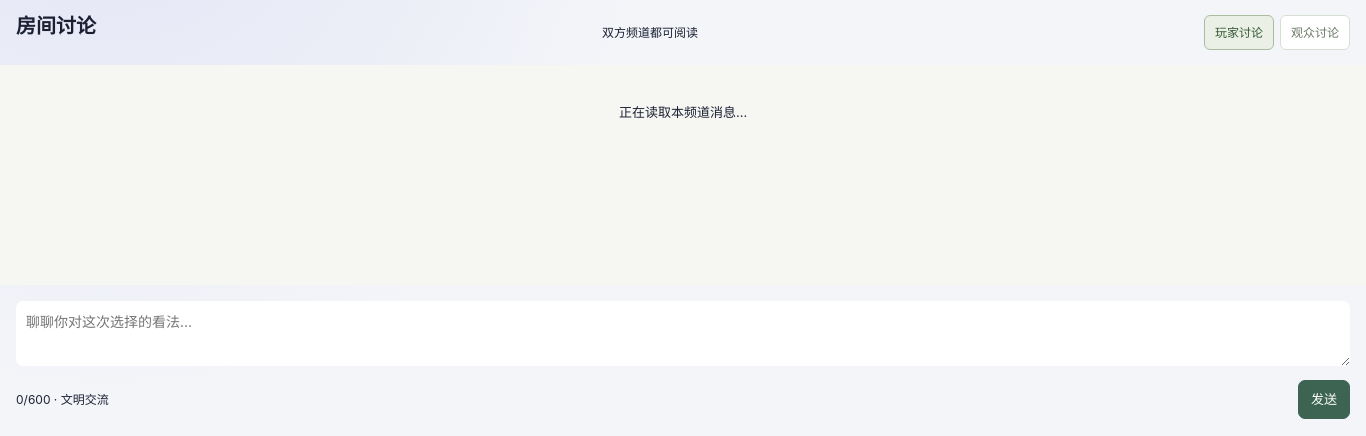
Test: rail workspace › ignores a late channel response and distinguishes loading or failed reads from empty history
Expected: the text "正在读取本频道消息…" is shown, [619,104,747,120]
Step 1. Click the tab "观众讨论" → x=1315, y=32, box [1280,15,1350,50]
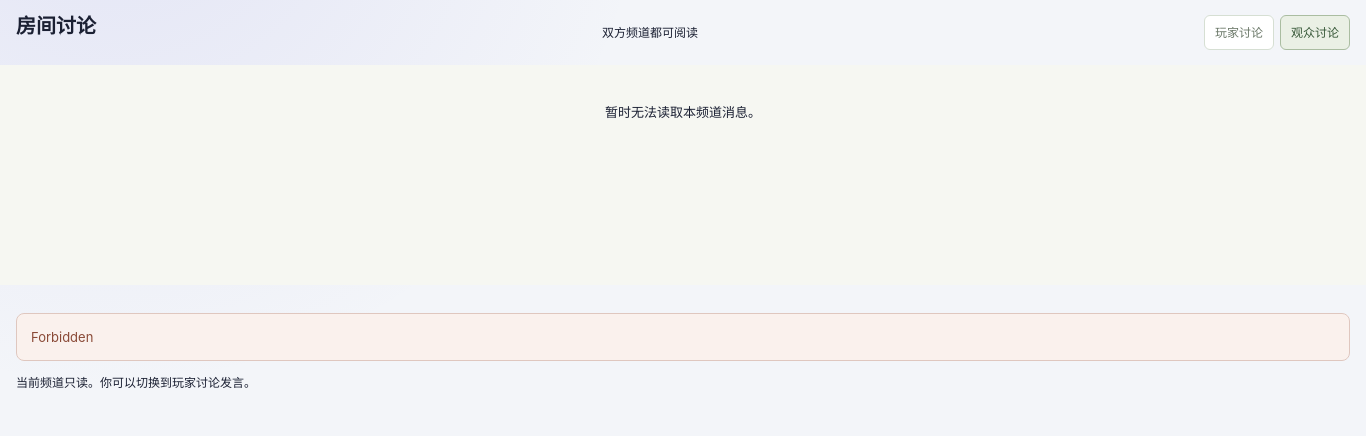
Expected: the text "暂时无法读取本频道消息。" is shown, [605,104,761,120]
